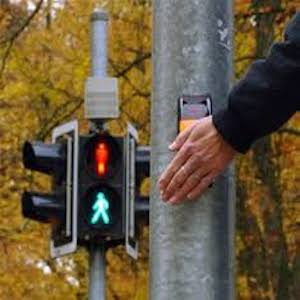green: (89, 191, 117, 230)
red: (86, 143, 117, 176)
